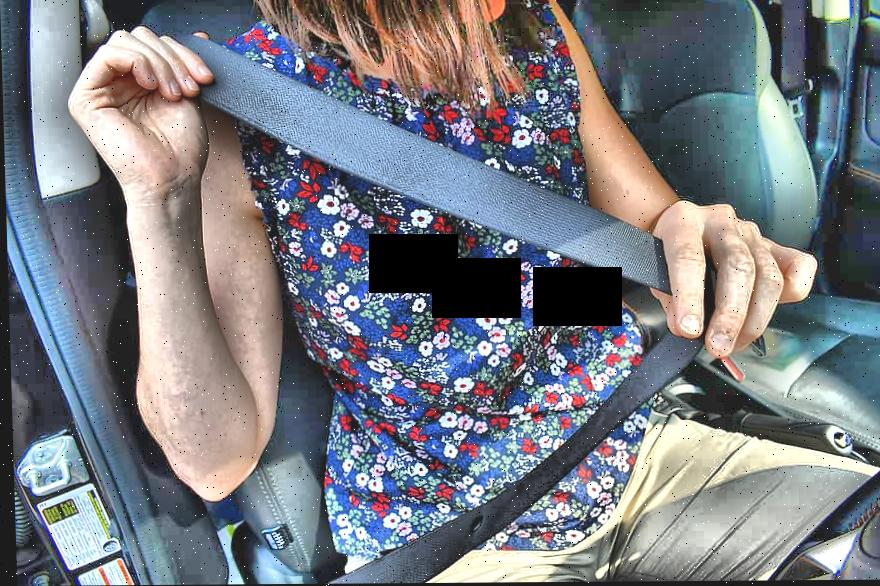seatbelt: (127, 30, 717, 585)
